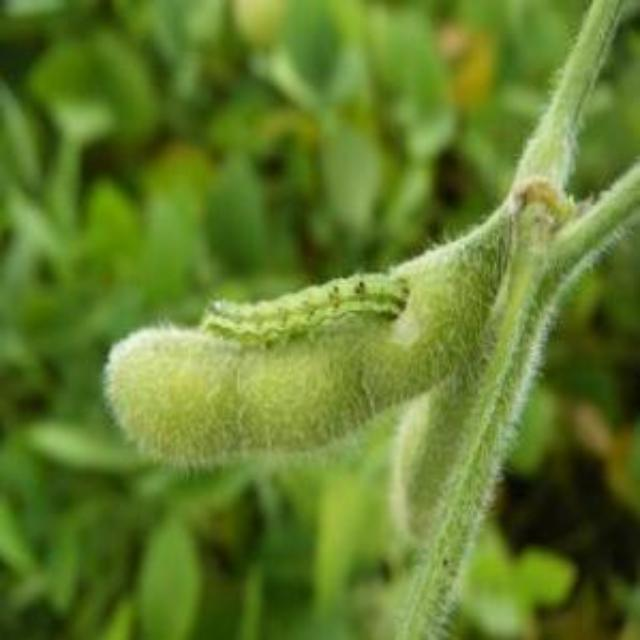Cotton bollworm: (163, 243, 437, 385)
